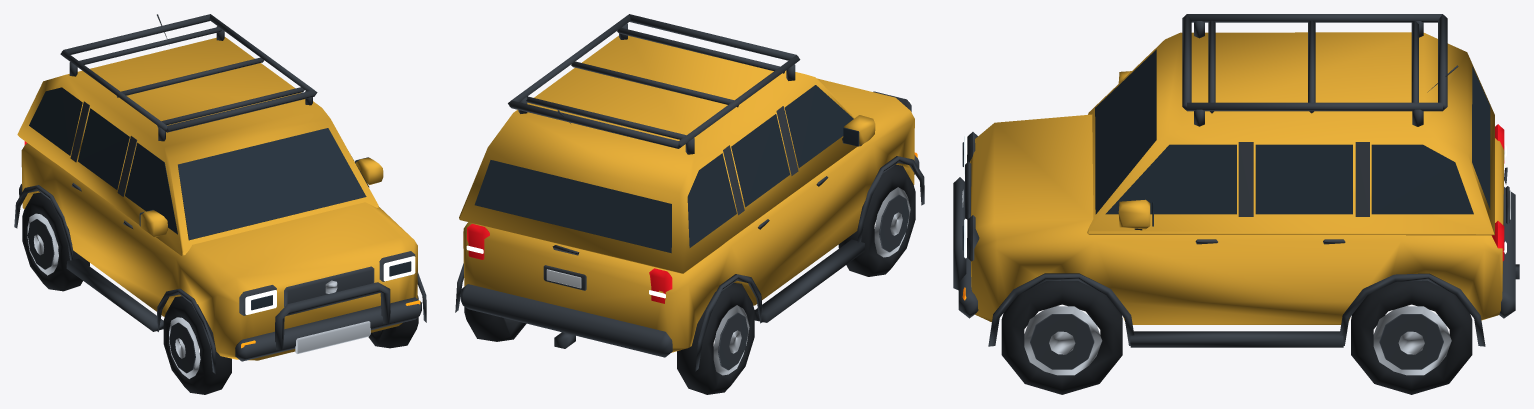
File: NPC_FamilySUV_LOD2.fbx
3 renders of one model, left to right at view 1: azimuth 30°, elevation 25°; view 2: azimuth 150°, elevation 25°; view 3: azimuth 270°, elevation 25°, orthographic. The views are drawn at different scales.
Visible parts, largest first — view 1: NPC_FamilySUV_LOD2; view 2: NPC_FamilySUV_LOD2; view 3: NPC_FamilySUV_LOD2.
Boxes of the visible parts, left/top/right/bottom form: NPC_FamilySUV_LOD2: left=14, top=14, right=426, bottom=394; NPC_FamilySUV_LOD2: left=455, top=14, right=924, bottom=394; NPC_FamilySUV_LOD2: left=953, top=14, right=1519, bottom=394.
Size of the model in its own units: 265 by 250 by 450.
